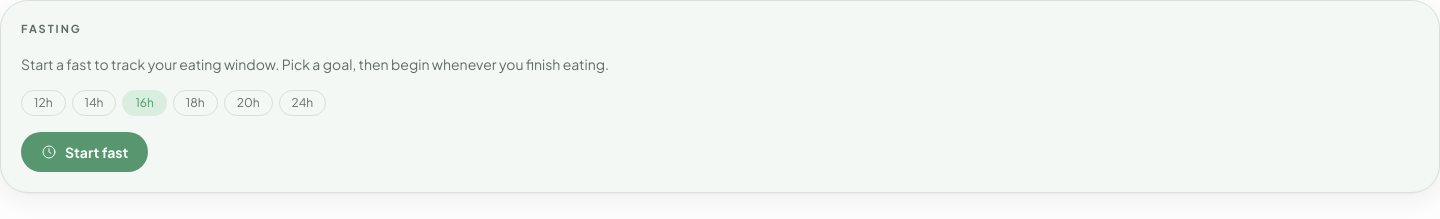
Test: FastingTimer idle state › starting a fast switches to the running view and writes the start time
This screenshot has width=1440, height=219.
What coordinates should you click on to do the following:
click the button "Start fast"
I would click on:
 (85, 152)
Its box is left=21, top=132, right=148, bottom=172.
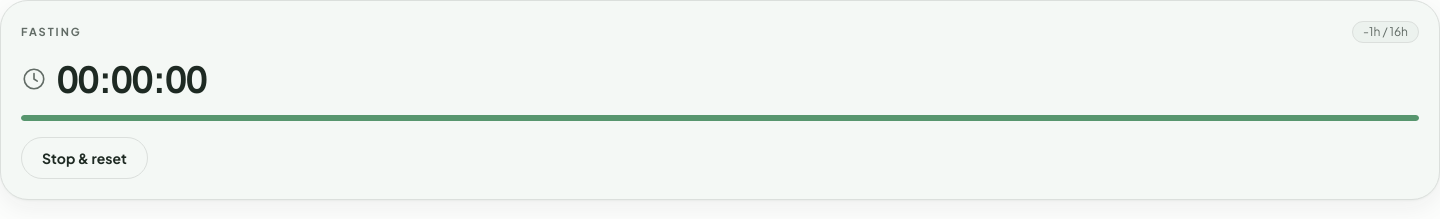
Check: the button "Stop & reset" is shown, box left=21, top=137, right=148, bottom=179
Check: the text "00:00:00" is shown, box left=57, top=59, right=207, bottom=99
